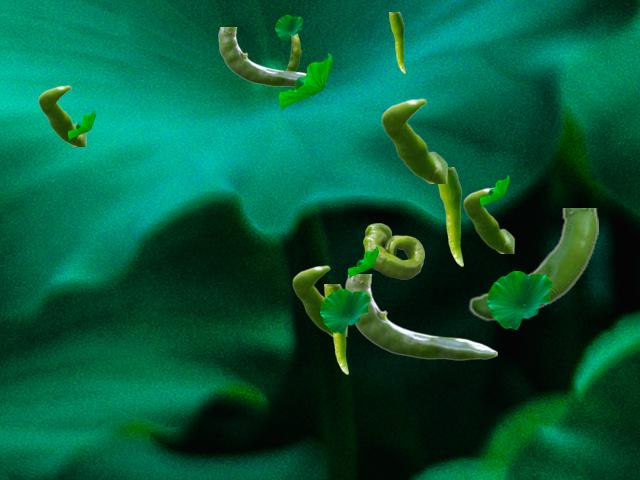green_chili: (468, 208, 597, 321), (345, 274, 496, 359), (381, 98, 446, 182), (218, 27, 305, 86), (363, 223, 423, 278), (463, 187, 513, 252), (38, 85, 85, 145), (292, 265, 331, 335), (437, 167, 462, 265), (324, 284, 347, 373), (389, 12, 404, 72), (286, 33, 300, 70)
